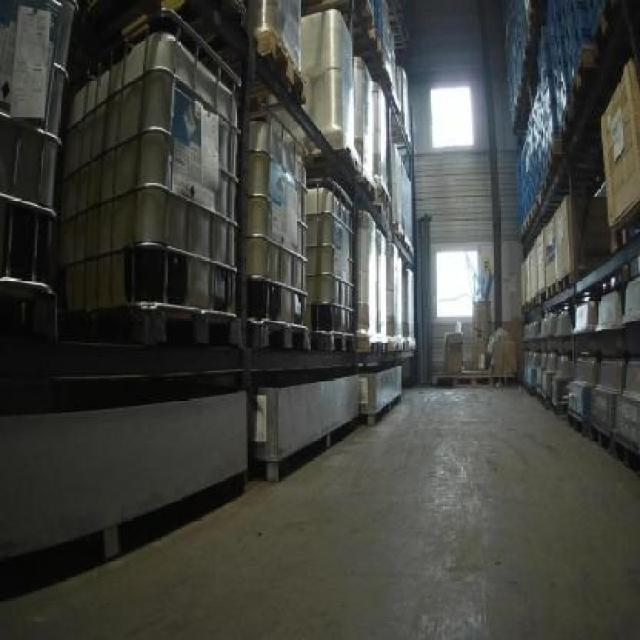floor: (0, 386, 637, 637)
pallets: (58, 11, 237, 342)
